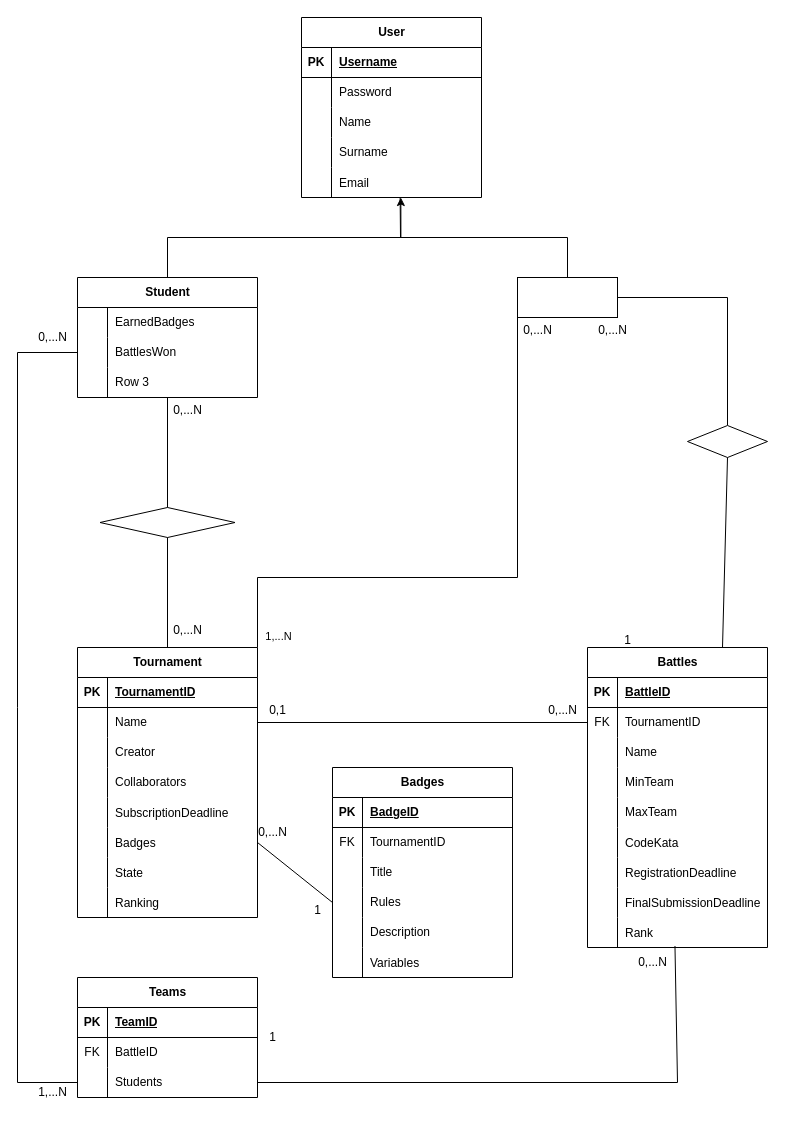
The diagram is 785 pixels wide and 1125 high, and some of its shapes have lost their labels. The shapes that lost their labels are listed below. From the top down, each one's centre as x and y in pixels, then its label:
At pixel 567 297: "Educator".
At pixel 727 441: "Create".
At pixel 167 522: "PARTECIPANTS".
